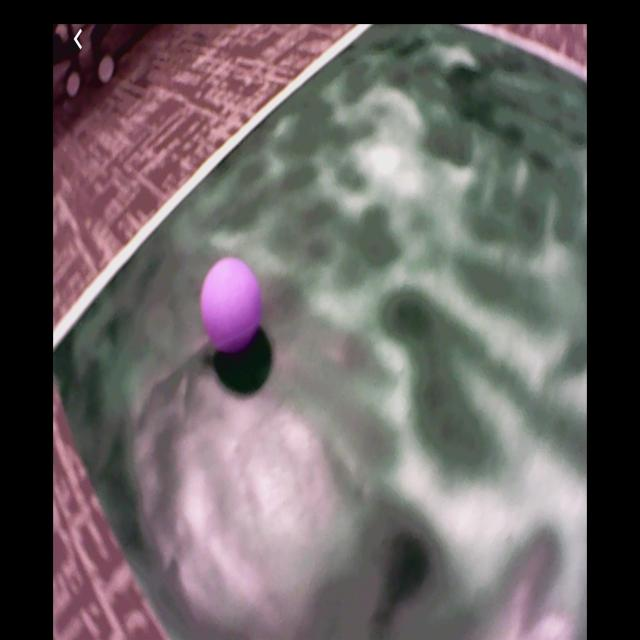ball: (202, 258, 262, 349)
